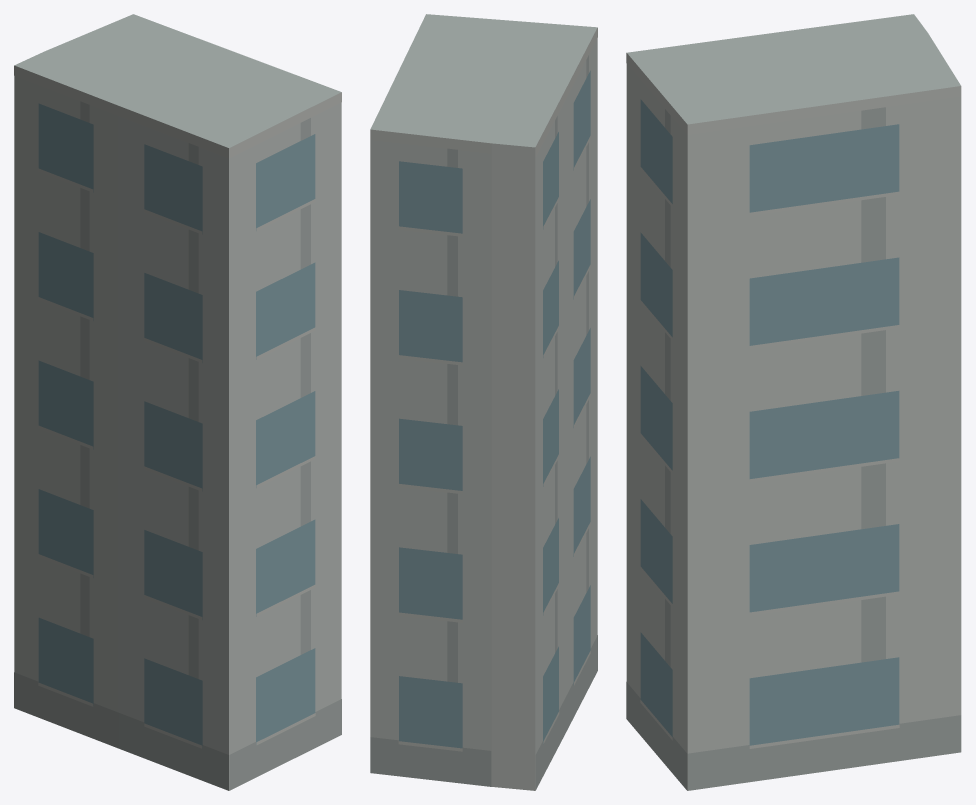
The model's file is survey-upis-32642418.glb.
3 views of the same model, side by side, from view 1: azimuth 30°, elevation 25°; view 2: azimuth 150°, elevation 25°; view 3: azimuth 270°, elevation 25° (orthographic). The views are drawn at different scales.
Parts seen in each view (by area): view 1: survey-upis-32642418.tmp; view 2: survey-upis-32642418.tmp; view 3: survey-upis-32642418.tmp.
Part boxes in pixels (box(x1,y1,x2,y2)): survey-upis-32642418.tmp: box(14, 14, 341, 790); survey-upis-32642418.tmp: box(370, 14, 597, 790); survey-upis-32642418.tmp: box(626, 14, 961, 790).
Size of the model in its own units: 5.43 by 15.25 by 6.95.
